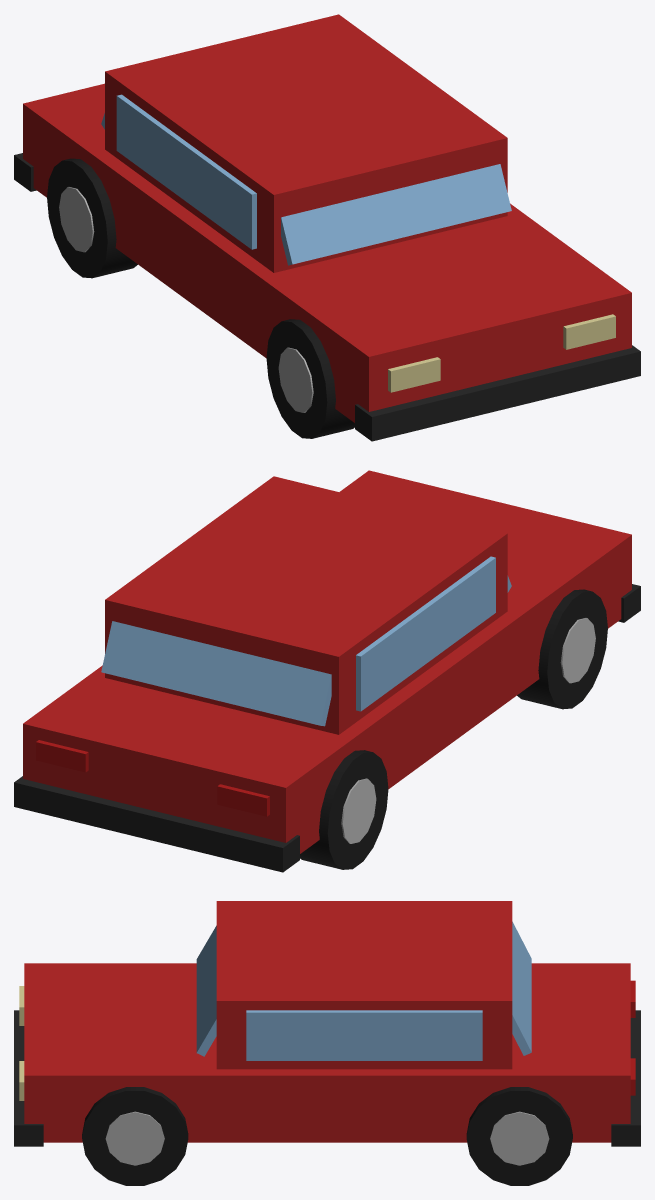
The model's file is car.glb.
3 renders of one model, top to bottom at view 1: azimuth 30°, elevation 25°; view 2: azimuth 150°, elevation 25°; view 3: azimuth 270°, elevation 25°, orthographic. The views are drawn at different scales.
Visible parts, largest first — view 1: car-body, wheel_RR, wheel_FR; view 2: car-body, wheel_FR, wheel_RR; view 3: car-body, wheel_FL, wheel_RL.
Part boxes in pixels (x1,y1,x2,y2): car-body: (14,14,640,441); wheel_RR: (47,158,137,278); wheel_FR: (266,319,354,438); car-body: (14,470,640,872); wheel_FR: (517,589,607,709); wheel_RR: (300,750,388,869); car-body: (14,901,640,1146); wheel_FL: (82,1087,188,1185); wheel_RL: (466,1087,572,1185).
Bounding box in the file's own units: 1.94 × 1.3 × 4.24.
